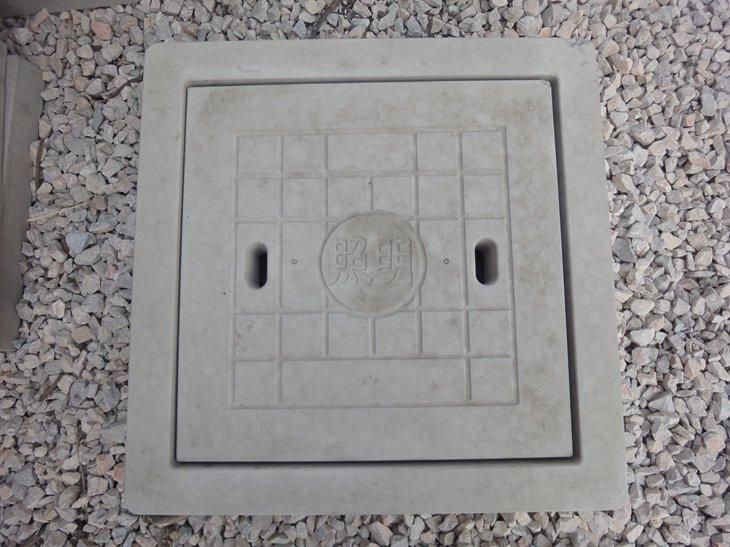wellcover: (150, 67, 602, 492)
